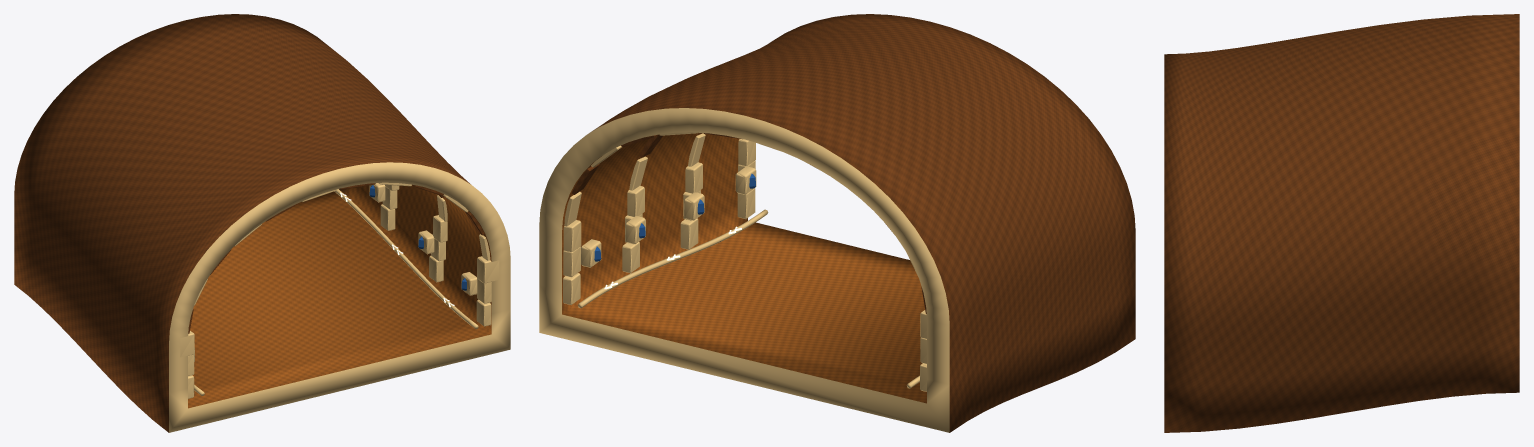
Rendered from grade_up_lod1.glb.
The picture shows the model from 3 angles, left to right: view 1: azimuth 30°, elevation 25°; view 2: azimuth 150°, elevation 25°; view 3: azimuth 270°, elevation 25°; orthographic projection. The views are drawn at different scales.
Parts seen in each view (by area): view 1: TunnelGeometry.001; view 2: TunnelGeometry.001; view 3: TunnelGeometry.001.
Boxes of the visible parts, bbox=[...] form: TunnelGeometry.001: bbox=[14, 14, 510, 432]; TunnelGeometry.001: bbox=[539, 14, 1135, 432]; TunnelGeometry.001: bbox=[1164, 14, 1519, 432].
Size of the model in its own units: 15.3 by 11.02 by 12.
Materials: 5 (2 with a texture image).
